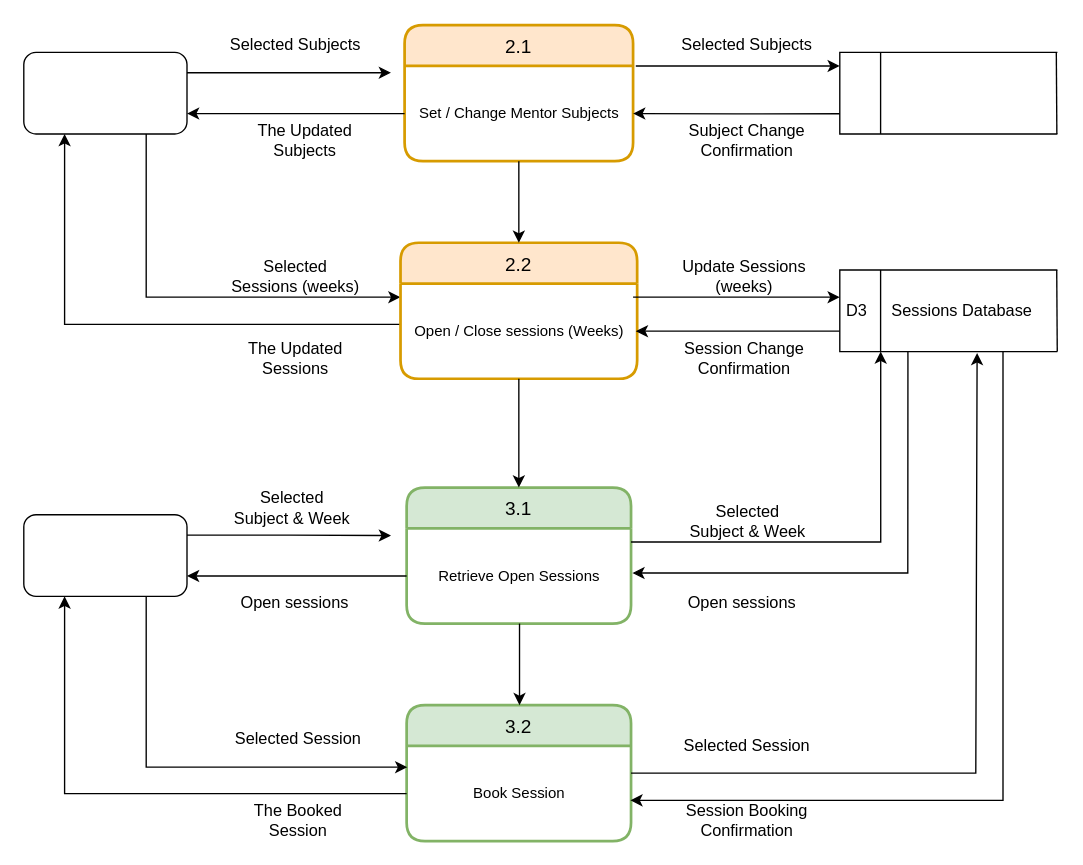
Image size: 1083x865. Some labels were removed from this diagram. Each missing label, with the centre of its shape:
D2 Mentor Subjects Database: (x=947, y=92)
Mentee: (x=104, y=554)
Mentor: (x=104, y=92)
